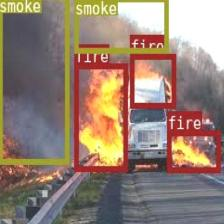fire: (74, 62, 127, 171), (129, 53, 175, 107), (166, 130, 220, 172)
smoke: (0, 0, 68, 162), (73, 0, 167, 52)
